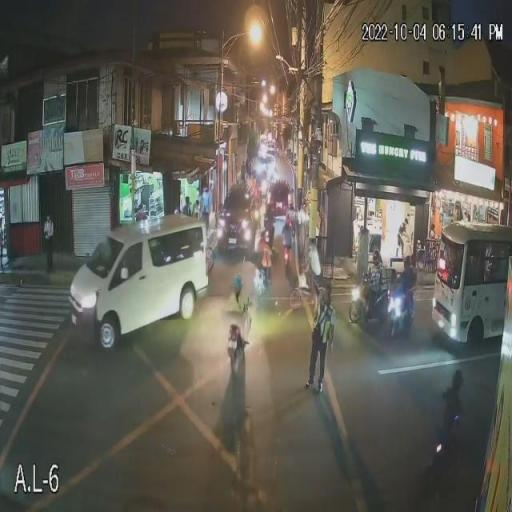motorcycle: (348, 282, 391, 329), (384, 285, 415, 340), (252, 257, 274, 297), (278, 238, 297, 268)
rider: (390, 250, 414, 306), (360, 250, 385, 302), (258, 228, 274, 273), (280, 210, 296, 248)
